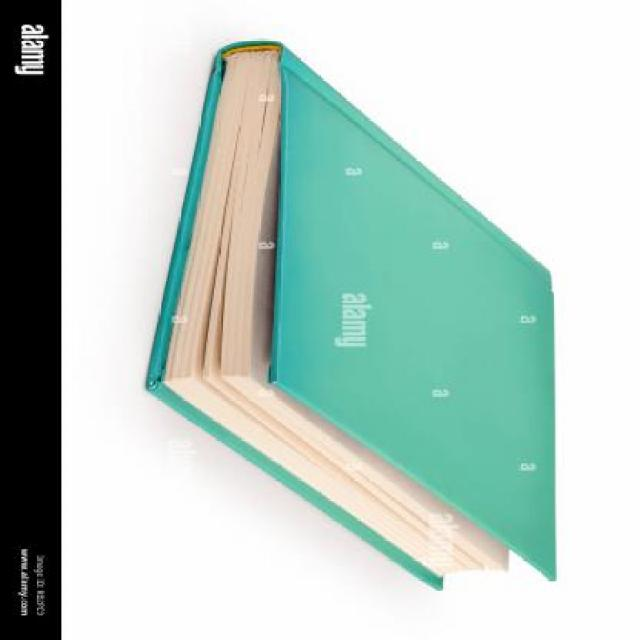book: (143, 16, 615, 627)
